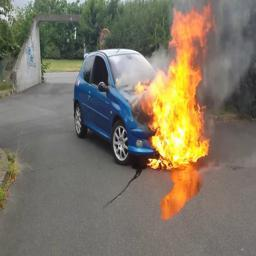fire: (137, 0, 214, 168)
